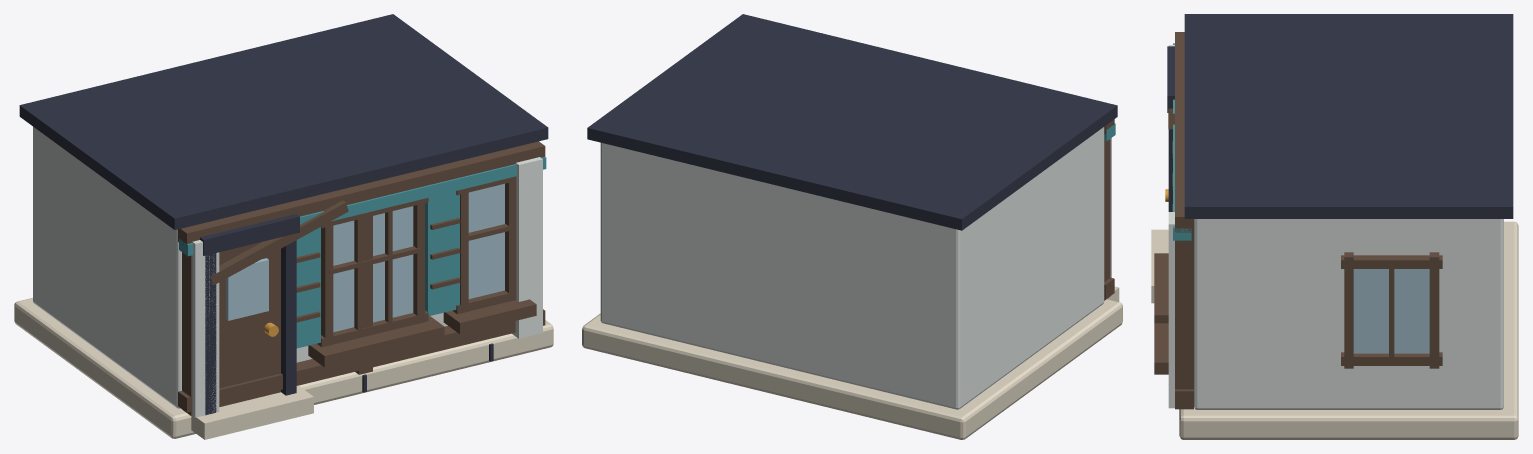
Rendered from base_house_banks_2.glb.
3 renders of one model, left to right at view 1: azimuth 30°, elevation 25°; view 2: azimuth 150°, elevation 25°; view 3: azimuth 270°, elevation 25°, orthographic. The views are drawn at different scales.
Parts seen in each view (by area): view 1: base_house_banks_2 ink, base_house_banks_2 wood, base_house_banks_2 plaster, base_house_banks_2 mist, base_house_banks_2 glass, base_house_banks_2 river; view 2: base_house_banks_2 plaster, base_house_banks_2 ink, base_house_banks_2 mist, base_house_banks_2 wood; view 3: base_house_banks_2 ink, base_house_banks_2 plaster, base_house_banks_2 mist, base_house_banks_2 wood, base_house_banks_2 glass, base_house_banks_2 river.
Boxes of the visible parts, x1,y1,x2,y2 form: base_house_banks_2 ink: (19,14,548,415); base_house_banks_2 wood: (178,141,545,415); base_house_banks_2 plaster: (33,126,542,417); base_house_banks_2 mist: (14,298,553,439); base_house_banks_2 glass: (226,183,504,332); base_house_banks_2 river: (179,157,546,348); base_house_banks_2 plaster: (600,127,1111,409); base_house_banks_2 ink: (587,14,1117,230); base_house_banks_2 mist: (582,286,1122,439); base_house_banks_2 wood: (1104,119,1114,300); base_house_banks_2 ink: (1167,14,1513,218); base_house_banks_2 plaster: (1168,45,1503,409); base_house_banks_2 mist: (1151,221,1518,439); base_house_banks_2 wood: (1154,32,1442,409); base_house_banks_2 glass: (1353,269,1429,353); base_house_banks_2 river: (1173,43,1191,240).
Size of the model in its own units: 0.8845 by 0.48 by 0.6875.
